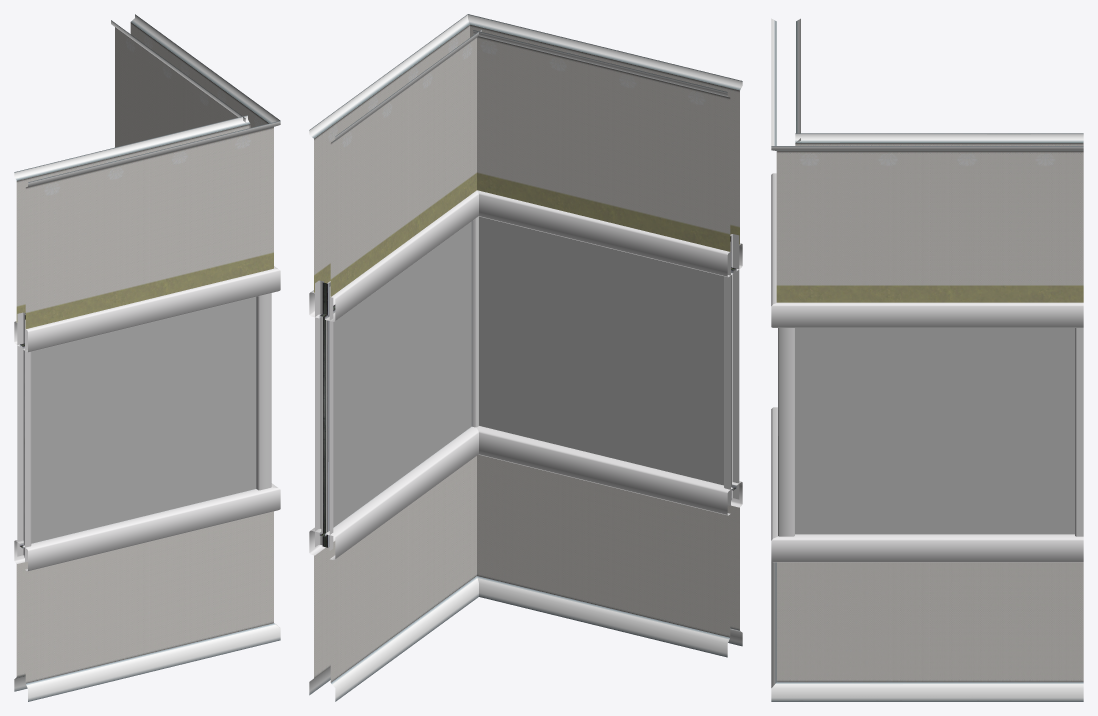
The model's file is waitingroom_reception_convex.dae.
3 views of the same model, side by side, from view 1: azimuth 30°, elevation 25°; view 2: azimuth 150°, elevation 25°; view 3: azimuth 270°, elevation 25° (orthographic). The views are drawn at different scales.
Parts seen in each view (by area): view 1: polySurface188, polySurface189; view 2: polySurface188, polySurface189; view 3: polySurface188, polySurface189.
Boxes of the visible parts, <box> form: polySurface188: <box>14,14,280,701</box>; polySurface189: <box>23,297,256,545</box>; polySurface188: <box>309,14,742,701</box>; polySurface189: <box>321,216,731,534</box>; polySurface188: <box>771,18,1083,701</box>; polySurface189: <box>795,328,1074,534</box>.
Bounding box in the file's own units: 2.03 × 4 × 2.03.
